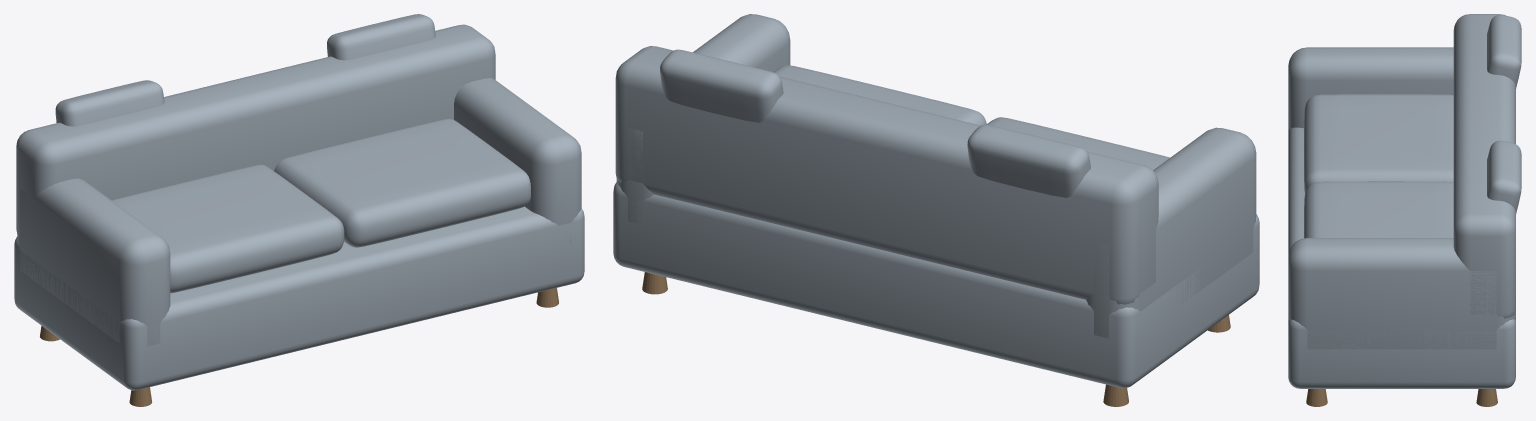
The model's file is sofa.glb.
3 views of the same model, side by side, from view 1: azimuth 30°, elevation 25°; view 2: azimuth 150°, elevation 25°; view 3: azimuth 270°, elevation 25° (orthographic). The views are drawn at different scales.
Visible parts, largest first — view 1: LD_sofa_base, LD_sofa_back, LD_sofa_seat1, LD_sofa_seat0, LD_sofa_arm-1, LD_sofa_arm1, LD_sofa_pillow0, LD_sofa_pillow1; view 2: LD_sofa_back, LD_sofa_base, LD_sofa_arm-1, LD_sofa_pillow1, LD_sofa_pillow0, LD_sofa_arm1, LD_sofa_seat1, LD_sofa_seat0; view 3: LD_sofa_arm1, LD_sofa_back, LD_sofa_seat0, LD_sofa_base, LD_sofa_arm-1, LD_sofa_seat1, LD_sofa_pillow0, LD_sofa_pillow1, LD_sofa_leg.002, LD_sofa_leg.003.
Boxes of the visible parts, bbox=[...] form: LD_sofa_base: bbox=[14, 206, 584, 390]; LD_sofa_back: bbox=[16, 24, 495, 237]; LD_sofa_seat1: bbox=[274, 118, 530, 247]; LD_sofa_seat0: bbox=[112, 164, 344, 293]; LD_sofa_arm-1: bbox=[17, 178, 170, 346]; LD_sofa_arm1: bbox=[454, 78, 581, 243]; LD_sofa_pillow0: bbox=[55, 80, 164, 126]; LD_sofa_pillow1: bbox=[327, 14, 435, 60]; LD_sofa_back: bbox=[615, 46, 1158, 304]; LD_sofa_base: bbox=[613, 182, 1259, 388]; LD_sofa_arm-1: bbox=[1086, 127, 1256, 338]; LD_sofa_pillow1: bbox=[660, 49, 783, 122]; LD_sofa_pillow0: bbox=[967, 124, 1090, 197]; LD_sofa_arm1: bbox=[616, 14, 790, 224]; LD_sofa_seat1: bbox=[773, 65, 986, 125]; LD_sofa_seat0: bbox=[986, 117, 1169, 170]; LD_sofa_arm1: bbox=[1288, 238, 1515, 349]; LD_sofa_back: bbox=[1453, 14, 1515, 318]; LD_sofa_seat0: bbox=[1304, 94, 1453, 193]; LD_sofa_base: bbox=[1288, 127, 1515, 388]; LD_sofa_arm-1: bbox=[1288, 47, 1453, 129]; LD_sofa_seat1: bbox=[1304, 181, 1453, 238]; LD_sofa_pillow0: bbox=[1487, 15, 1521, 88]; LD_sofa_pillow1: bbox=[1487, 140, 1521, 213]; LD_sofa_leg.002: bbox=[1306, 389, 1327, 406]; LD_sofa_leg.003: bbox=[1476, 389, 1497, 406].
Bounding box in the file's own units: 2.1 × 0.9714 × 0.9741.
